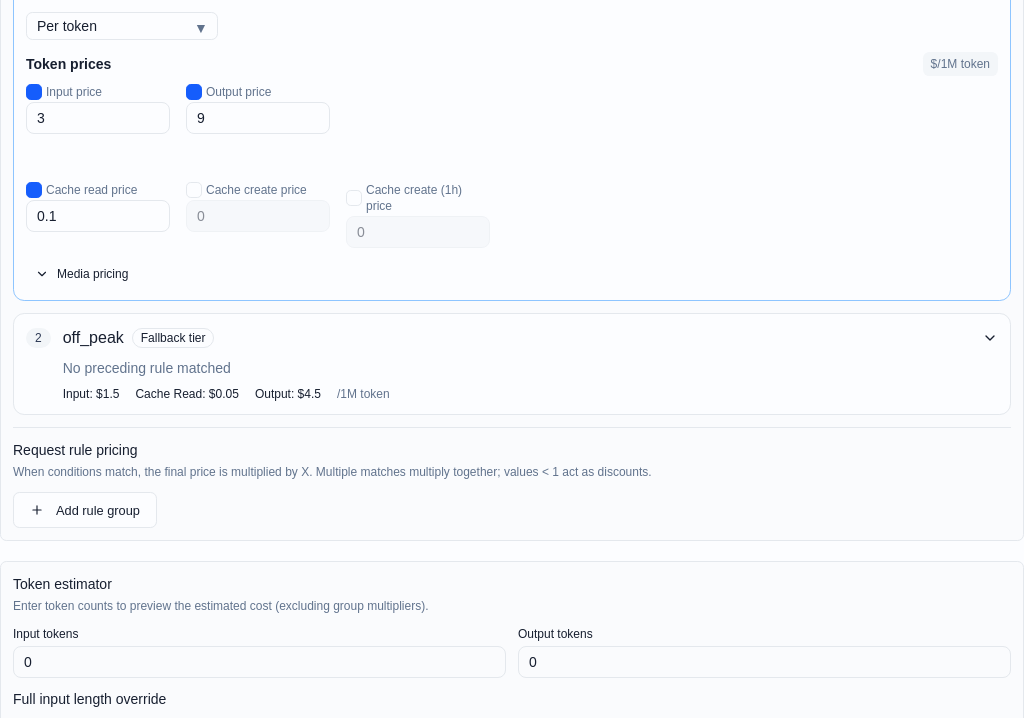
Test: visual time billing editor › opens the complete time expression visually without publishing changes
(page scrolled)
Expected: the field labelled "Input price" holds "3", 26,102 -> 170,134
Click the button with aria-label "Edit pricing rule off_peak". click: (93,338)
box: 26,326 -> 998,402
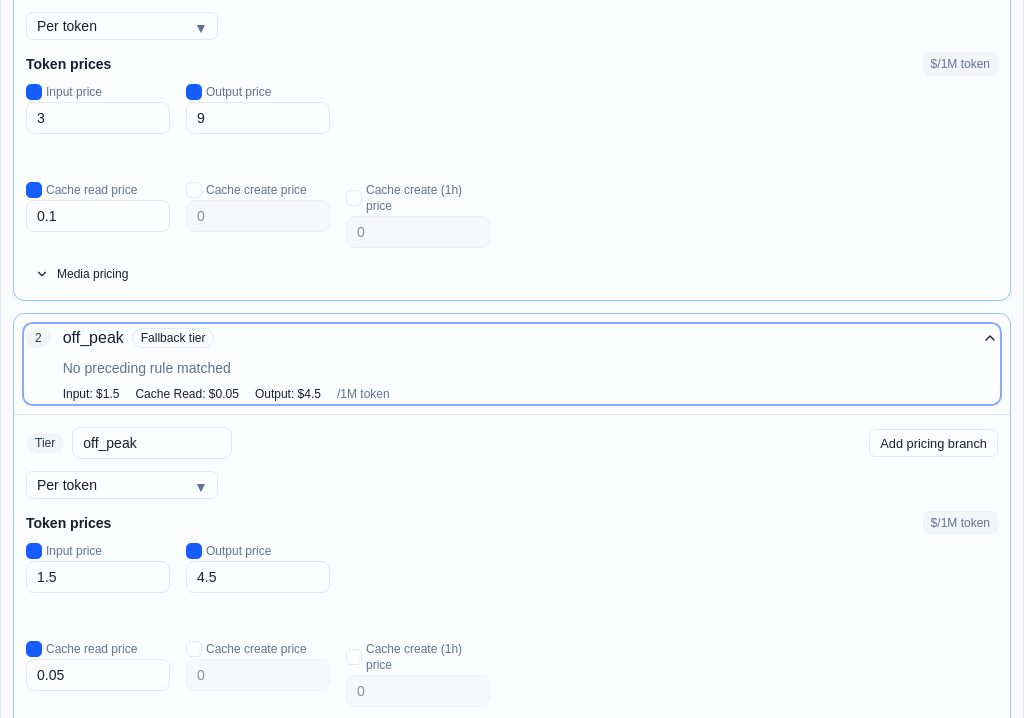
Expected: the 2nd field labelled "Input price" holds "1.5", 26,561 -> 170,593
